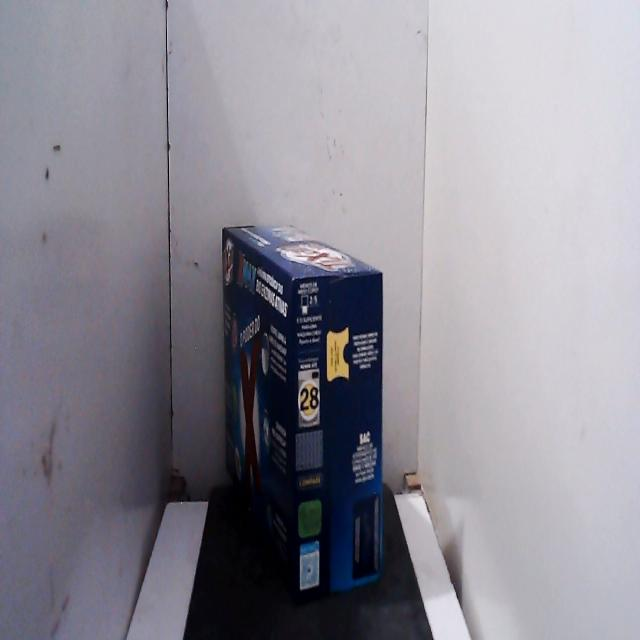papel: (210, 205, 390, 615)
